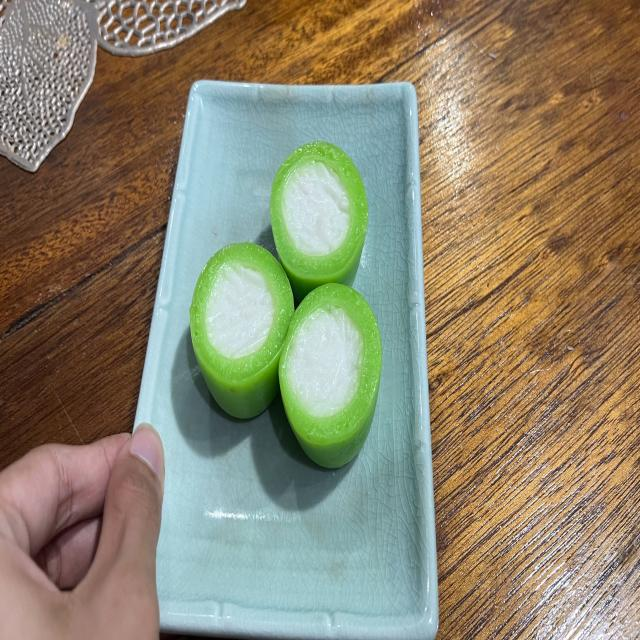nona-manis: (279, 282, 382, 469), (190, 242, 294, 418), (270, 142, 369, 302)
